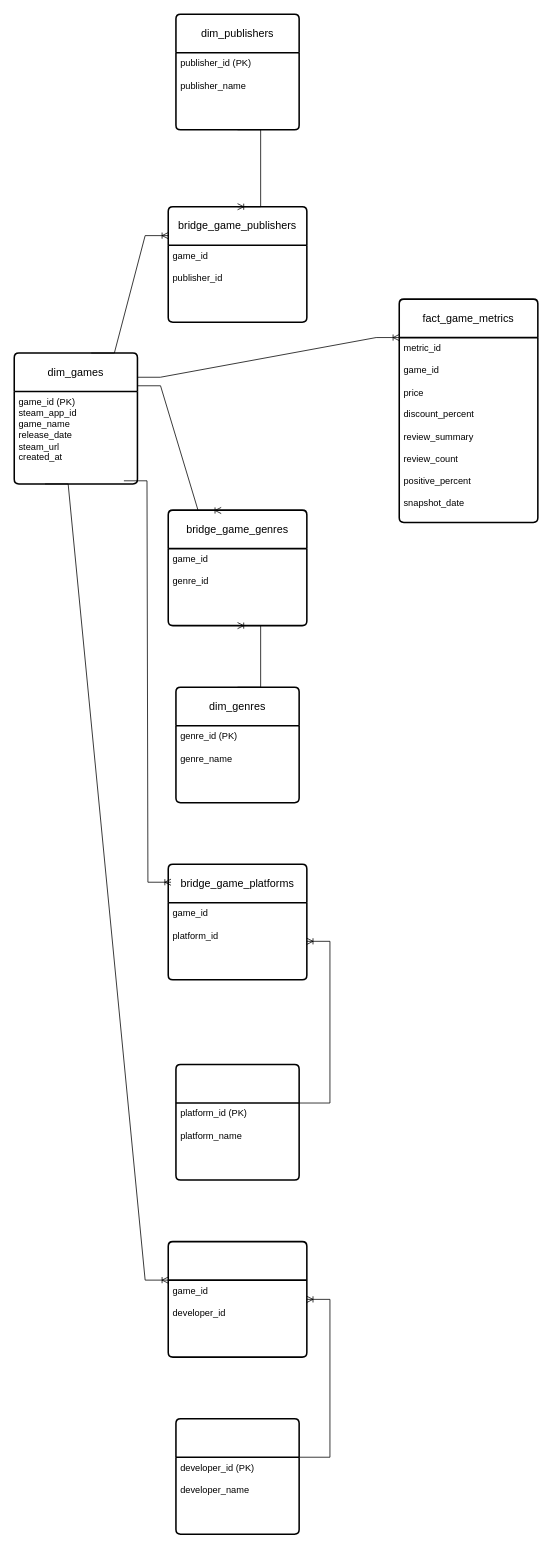
The diagram is 551 pixels wide and 1548 high, and some of its shapes have lost their labels. Each missing label, with the box of its shape:
bridge_game_developers: (167, 1240, 307, 1358)
dim_developers: (175, 1418, 300, 1535)
dim_platforms: (175, 1063, 300, 1180)
